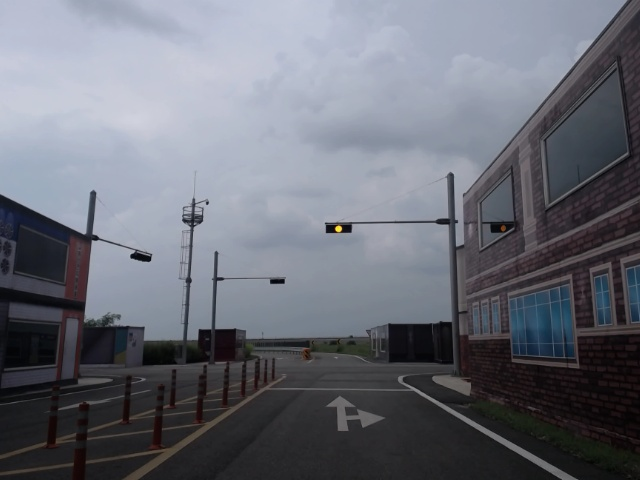orange_3: (326, 224, 352, 234)
